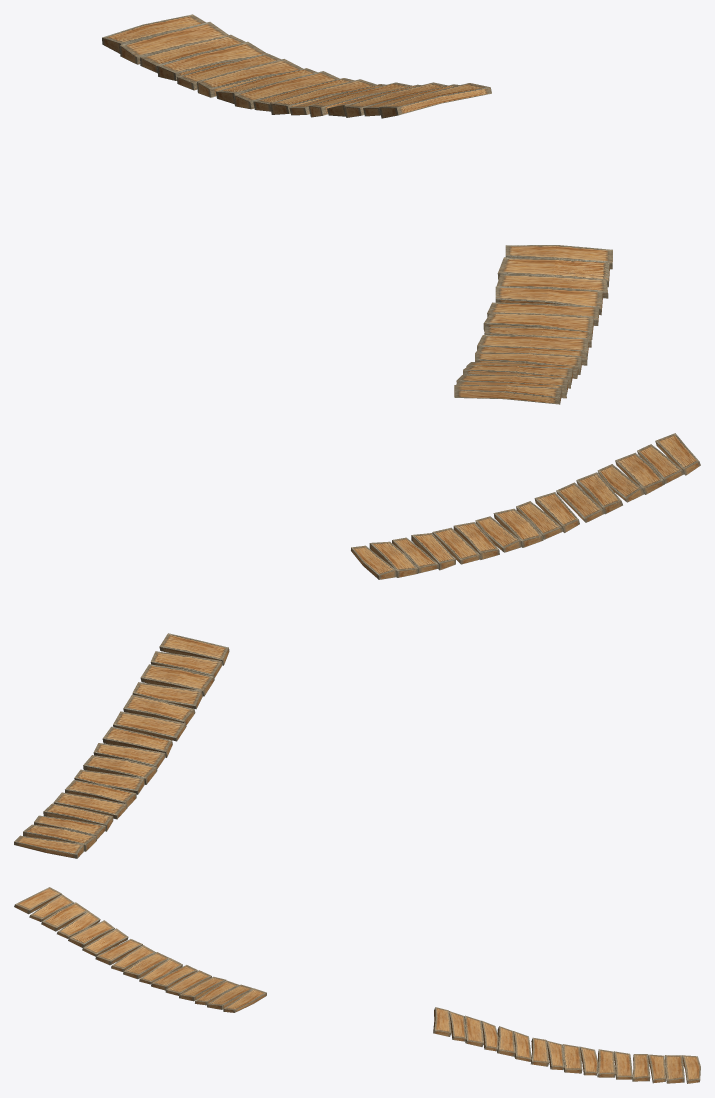
The model's file is orbs-default-village1.glb.
3 renders of one model, top to bottom at view 1: azimuth 30°, elevation 25°; view 2: azimuth 150°, elevation 25°; view 3: azimuth 270°, elevation 25°, orthographic. The views are drawn at different scales.
Visible parts, largest first — view 1: Mesh_0.001, Mesh_0.002; view 2: Mesh_0.002, Mesh_0.001; view 3: Mesh_0.001, Mesh_0.002.
Boxes of the visible parts, x1,y1,x2,y2 form: Mesh_0.001: [454, 245, 612, 404]; Mesh_0.002: [102, 14, 491, 118]; Mesh_0.002: [14, 633, 229, 858]; Mesh_0.001: [351, 433, 700, 579]; Mesh_0.001: [14, 887, 266, 1012]; Mesh_0.002: [433, 1007, 700, 1083].
Size of the model in its own units: 28.03 by 12.92 by 79.02.
Materials: 1 (1 with a texture image).
